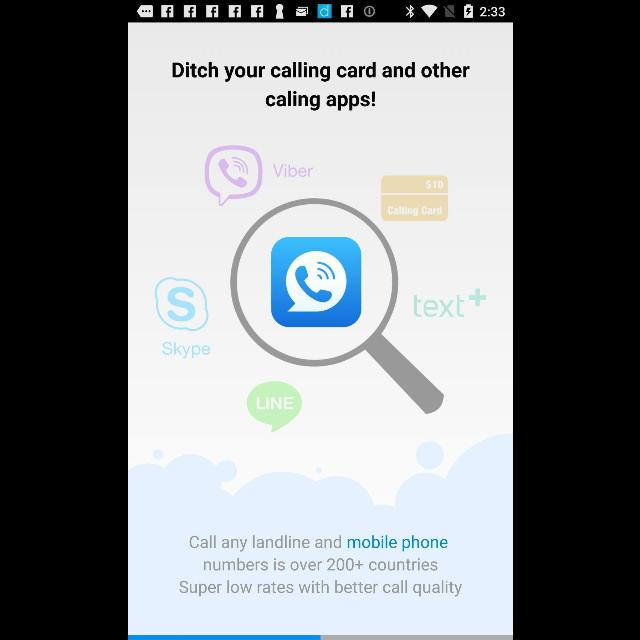image: (152, 146, 486, 432)
text: (178, 535, 462, 597), (171, 61, 469, 110)
uppertaskbar: (128, 1, 512, 23)
